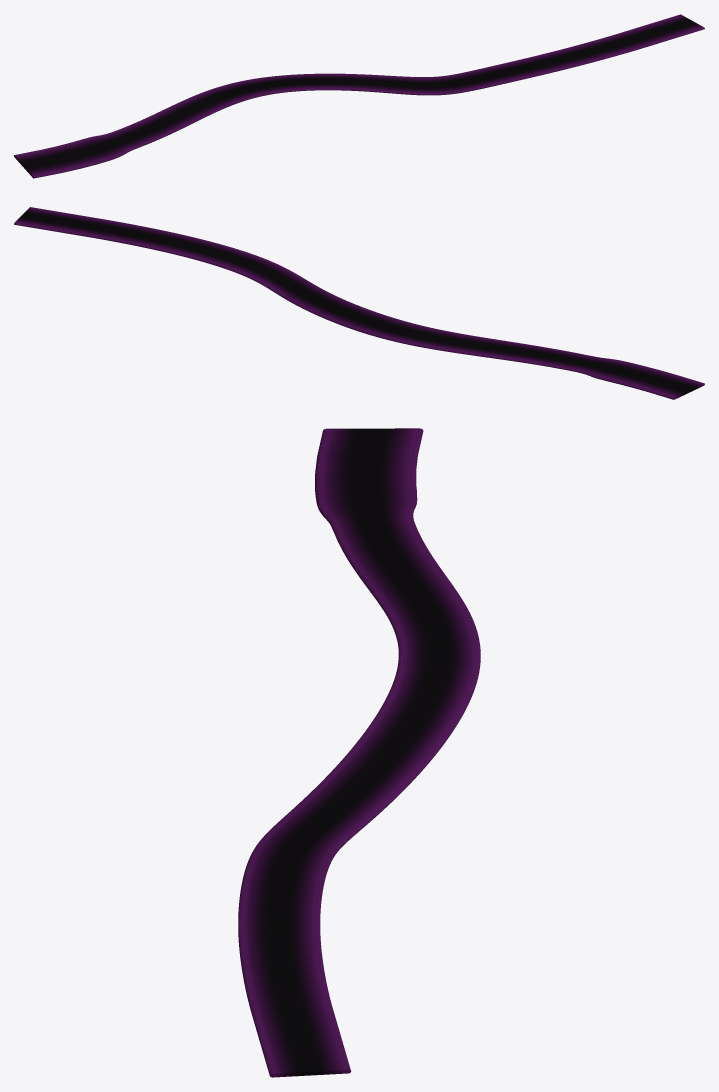
Rendered from level-1-track-5.glb.
3 renders of one model, top to bottom at view 1: azimuth 30°, elevation 25°; view 2: azimuth 150°, elevation 25°; view 3: azimuth 270°, elevation 25°, orthographic. The views are drawn at different scales.
Visible parts, largest first — view 1: track-05; view 2: track-05; view 3: track-05.
Part boxes in pixels (bbox=[...]): track-05: bbox=[14, 14, 704, 178]; track-05: bbox=[14, 207, 704, 399]; track-05: bbox=[238, 428, 480, 1077].
Size of the model in its own units: 155 by 3.21 by 24.7.
2 materials, 2 textured.
